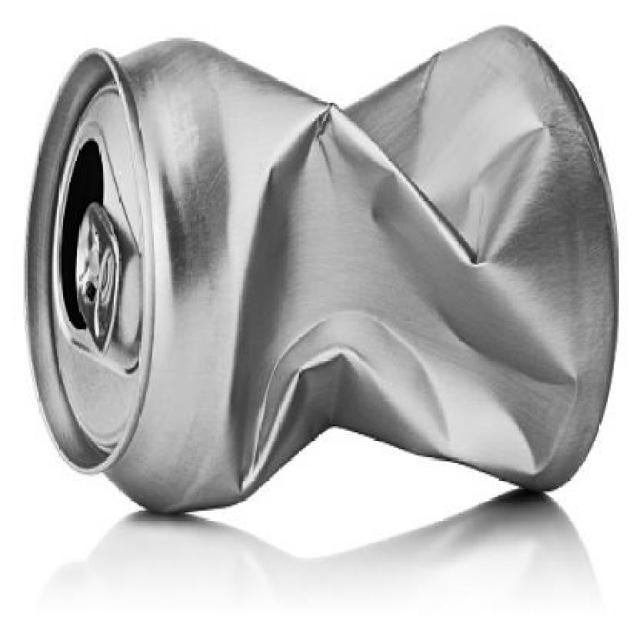can: (22, 21, 636, 524)
